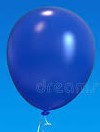Balloon: (6, 7, 96, 111)
